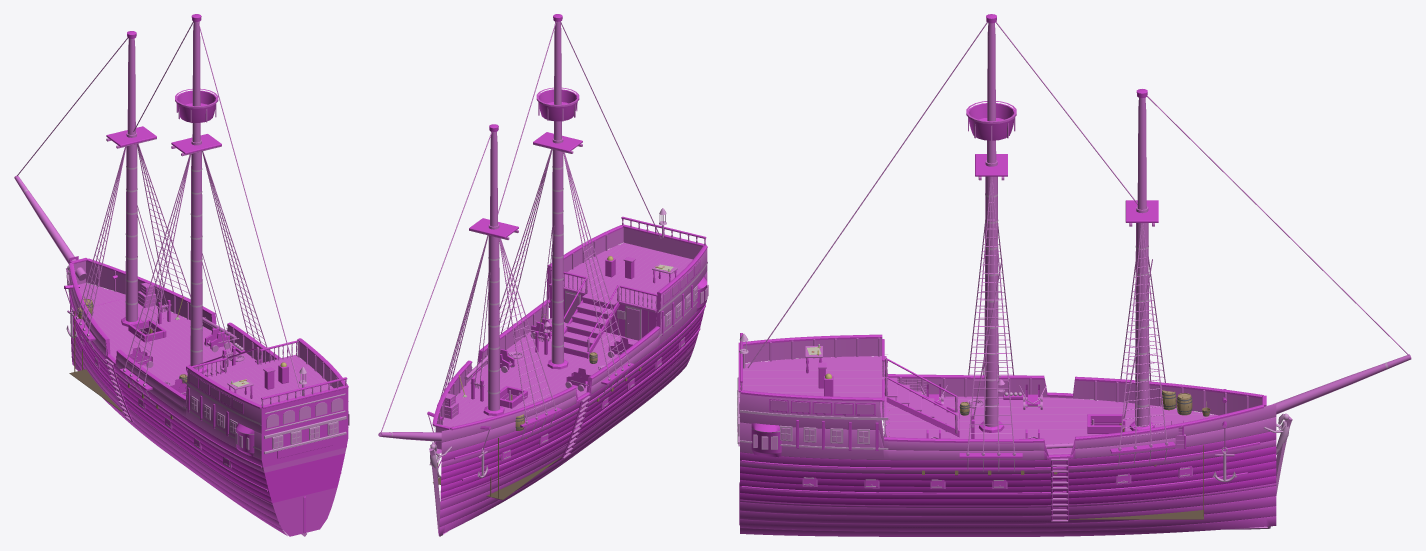
File: ship_hull.glb
3 renders of one model, left to right at view 1: azimuth 30°, elevation 25°; view 2: azimuth 150°, elevation 25°; view 3: azimuth 270°, elevation 25°, orthographic. The views are drawn at different scales.
Parts seen in each view (by area): view 1: hull; view 2: hull; view 3: hull.
Part boxes in pixels (bbox=[...]): hull: bbox=[14, 14, 349, 536]; hull: bbox=[378, 14, 708, 536]; hull: bbox=[737, 14, 1411, 536].
Bounding box in the file's own units: 8.3 × 27.5 × 32.66.
